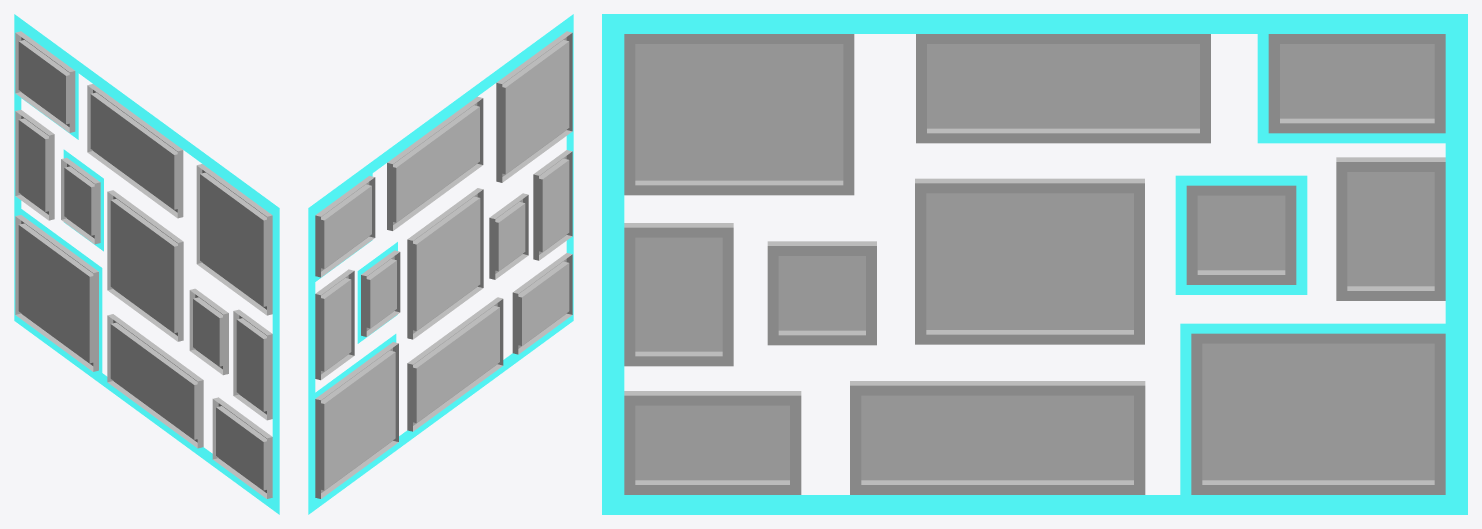
File: PhotoCollage.fbx
The picture shows the model from 3 angles, left to right: view 1: azimuth 30°, elevation 25°; view 2: azimuth 150°, elevation 25°; view 3: azimuth 270°, elevation 25°; orthographic projection. The views are drawn at different scales.
Parts seen in each view (by area): view 1: PhotoCollage, HighlightMain, Highlight3, Highlight1, Highlight2; view 2: PhotoCollage, HighlightMain, Highlight3, Highlight2; view 3: PhotoCollage, HighlightMain, Highlight3, Highlight1, Highlight2.
Boxes of the visible parts, bbox=[...] form: PhotoCollage: bbox=[15, 31, 272, 498]; HighlightMain: bbox=[14, 14, 279, 514]; Highlight3: bbox=[18, 209, 102, 378]; Highlight1: bbox=[17, 24, 78, 139]; Highlight2: bbox=[63, 149, 103, 251]; PhotoCollage: bbox=[315, 31, 572, 498]; HighlightMain: bbox=[308, 14, 573, 514]; Highlight3: bbox=[311, 334, 396, 504]; Highlight2: bbox=[357, 242, 397, 343]; PhotoCollage: bbox=[624, 34, 1445, 494]; HighlightMain: bbox=[602, 14, 1467, 514]; Highlight3: bbox=[1180, 323, 1456, 504]; Highlight1: bbox=[1257, 24, 1456, 143]; Highlight2: bbox=[1175, 175, 1307, 294].
Size of the model in its own units: 0.02 by 1 by 1.57.
